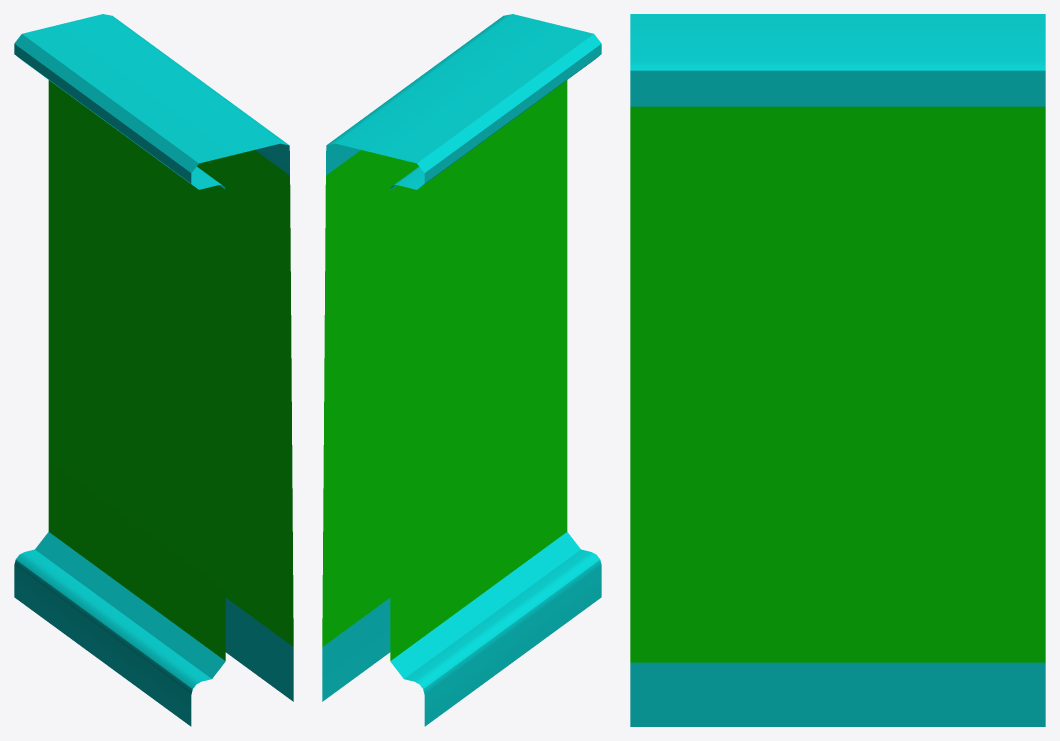
Rendered from Wall_Running.fbx.
3 renders of one model, left to right at view 1: azimuth 30°, elevation 25°; view 2: azimuth 150°, elevation 25°; view 3: azimuth 270°, elevation 25°, orthographic. The views are drawn at different scales.
Parts seen in each view (by area): view 1: Mod_Wall; view 2: Mod_Wall; view 3: Mod_Wall.
Part boxes in pixels (box(x1,y1,x2,y2)): Mod_Wall: box(14, 14, 293, 726); Mod_Wall: box(322, 14, 601, 726); Mod_Wall: box(630, 14, 1045, 726).
Size of the model in its own units: 10 by 52.47 by 30.
